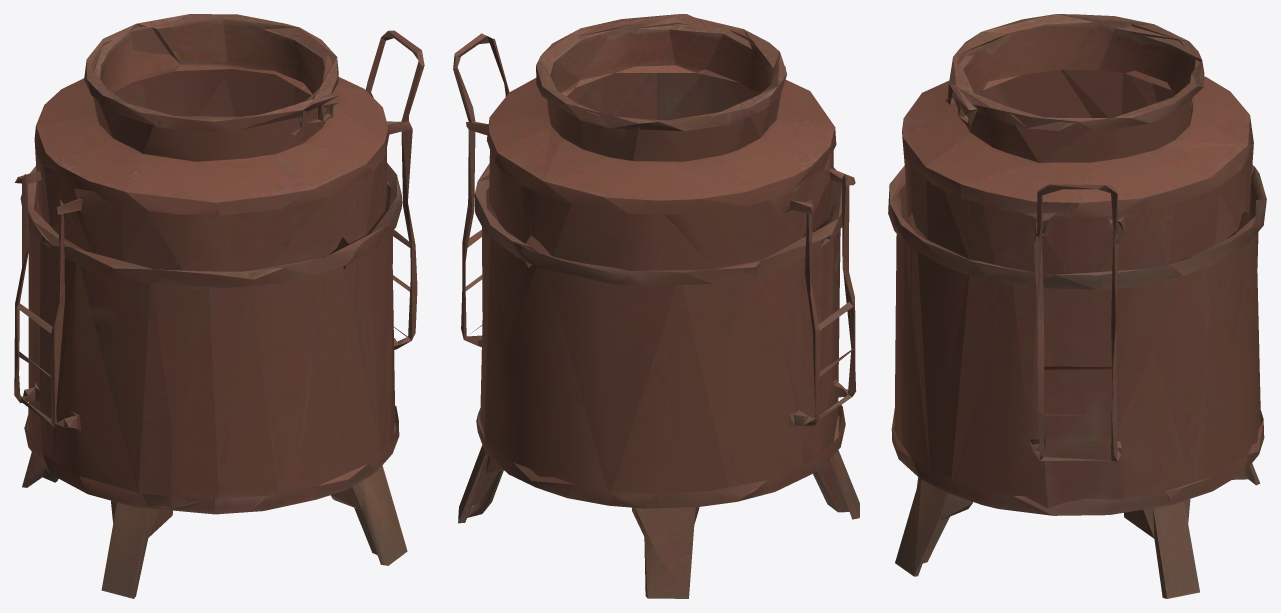
Rendered from waterTank.glb.
The picture shows the model from 3 angles, left to right: view 1: azimuth 30°, elevation 25°; view 2: azimuth 150°, elevation 25°; view 3: azimuth 270°, elevation 25°; orthographic projection.
Bounding box in the file's own units: 1.65 × 1.9 × 1.43.
Materials: 1 (1 with a texture image).
